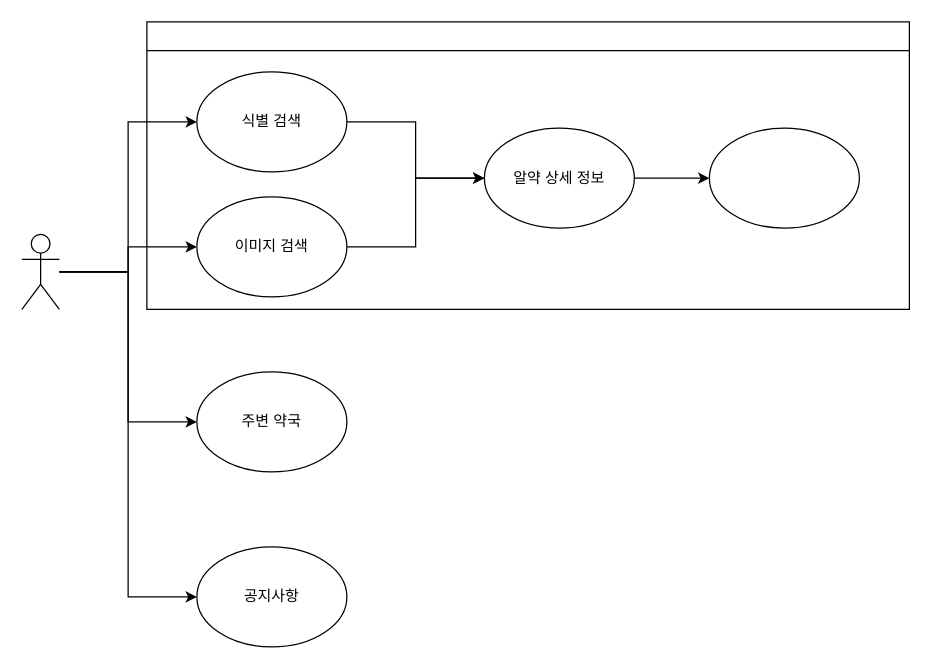
Some shapes in this 931 by 669 pixel diagram are drawn without their labels. Here are the shapes that lost their labels. From the top down, the box of each, then its label:
(146, 21, 909, 309): 알약 검색
(708, 127, 859, 228): 알약 보관함
(21, 233, 59, 309): Actor
